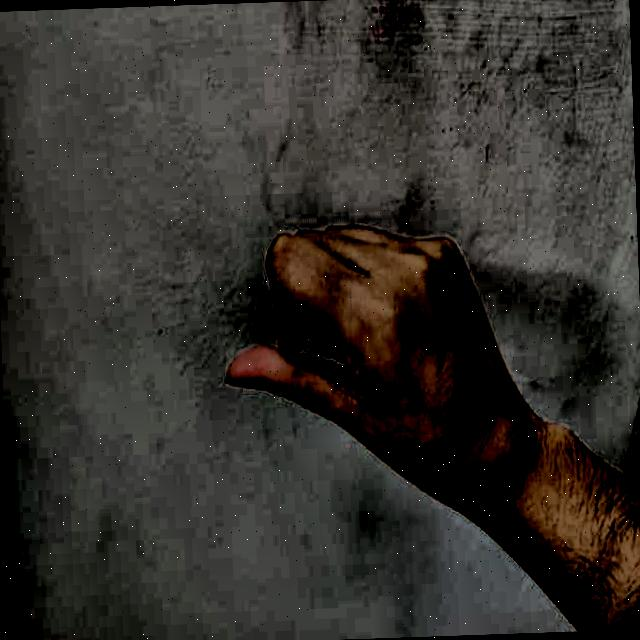Ay: (196, 171, 494, 558)
